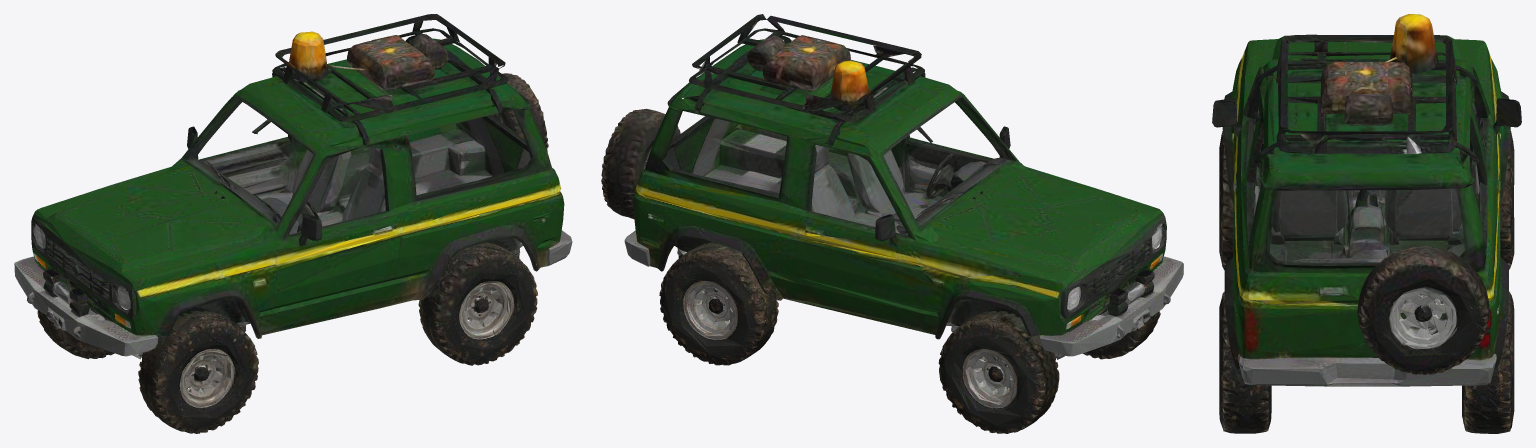
The model's file is gev-jeep.glb.
3 views of the same model, side by side, from view 1: azimuth 30°, elevation 25°; view 2: azimuth 150°, elevation 25°; view 3: azimuth 270°, elevation 25° (orthographic). The views are drawn at different scales.
Visible parts, largest first — view 1: geometry_0; view 2: geometry_0; view 3: geometry_0.
Part boxes in pixels (x1=…): geometry_0: x1=14, y1=14, x2=572, y2=433; geometry_0: x1=601, y1=14, x2=1183, y2=433; geometry_0: x1=1212, y1=14, x2=1521, y2=433.
Size of the model in its own units: 1.9 by 1.08 by 0.8591.
1 material, 1 textured.
